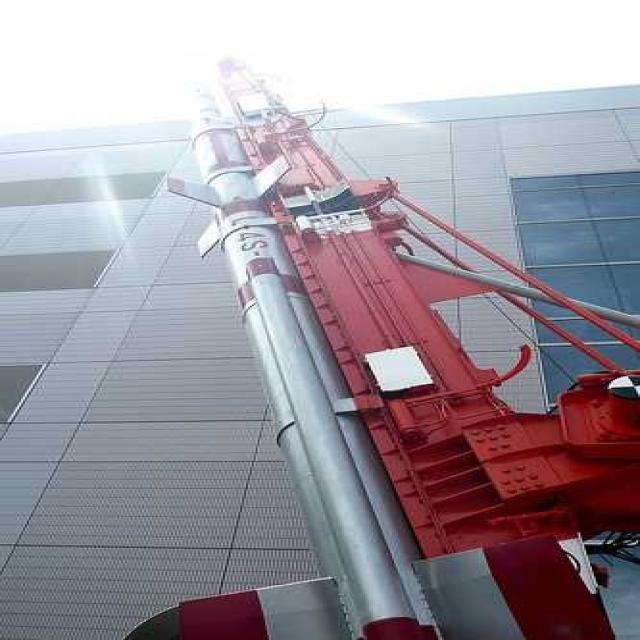missile: (130, 51, 639, 640)
